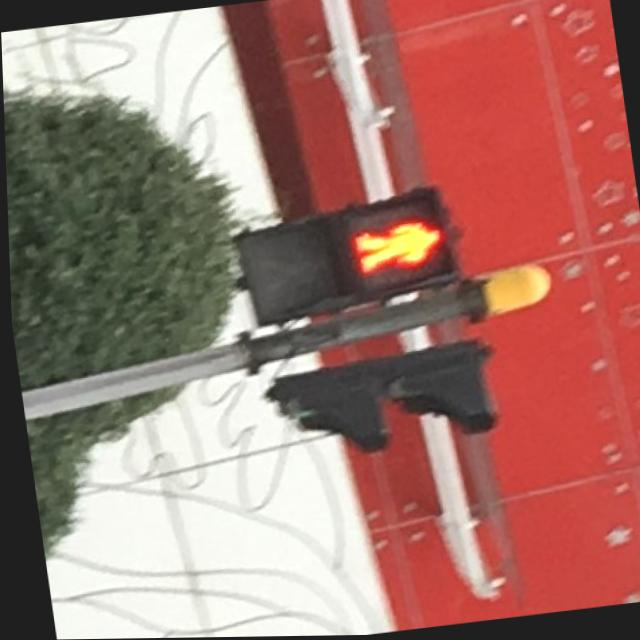red_light: (351, 201, 447, 285)
